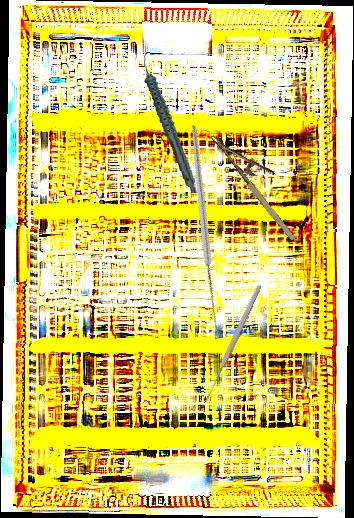Handpiece: (140, 47, 198, 198)
Hook Surgical: (119, 124, 300, 337)
Needle Holder: (210, 118, 313, 244)
Surgical Spoon: (202, 283, 263, 404)
